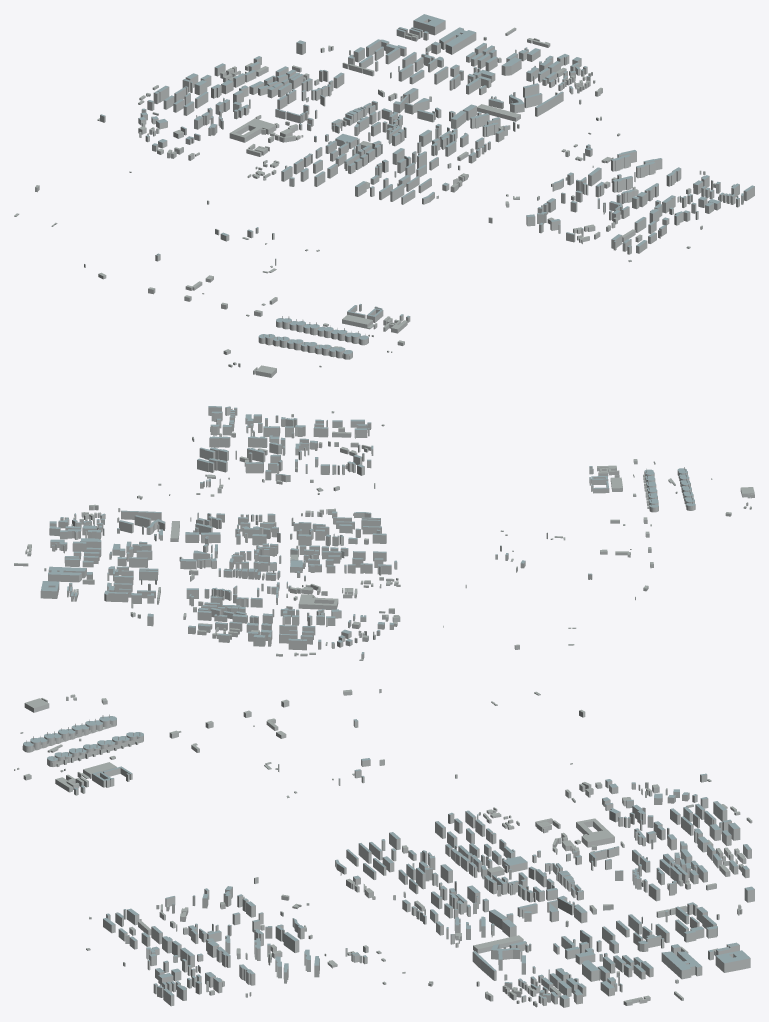
File: far.glb
3 renders of one model, top to bottom at view 1: azimuth 30°, elevation 25°; view 2: azimuth 150°, elevation 25°; view 3: azimuth 270°, elevation 25°, orthographic. The views are drawn at different scales.
Bounding box in the file's own units: 2095 × 47.44 × 2079.
